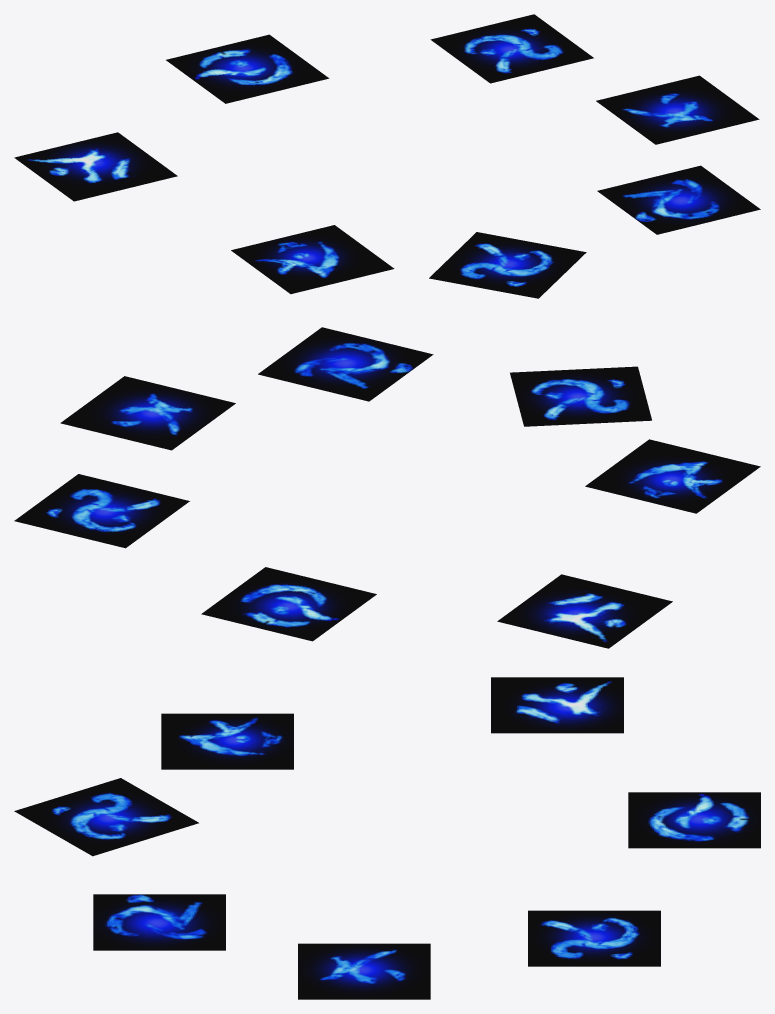
File: Particles.fbx
3 renders of one model, top to bottom at view 1: azimuth 30°, elevation 25°; view 2: azimuth 150°, elevation 25°; view 3: azimuth 270°, elevation 25°, orthographic. The views are drawn at different scales.
Visible parts, largest first — view 1: Rune_02, Rune_04, Rune_05, Rune_03, Rune_01, Rune_01_1, Rune_06; view 2: Rune_01_1, Rune_01, Rune_04, Rune_03, Rune_02, Rune_05, Rune_06; view 3: Rune_01, Rune_02, Rune_03, Rune_04, Rune_05, Rune_06, Rune_01_1.
Boxes of the visible parts, x1,y1,x2,y2 form: Rune_02: (596,75,759,144); Rune_04: (166,34,329,103); Rune_05: (14,132,177,201); Rune_03: (597,165,760,234); Rune_01: (430,14,593,83); Rune_01_1: (429,232,586,298); Rune_06: (231,225,394,293); Rune_01_1: (510,366,651,426); Rune_01: (14,474,189,548); Rune_04: (201,567,376,641); Rune_03: (258,327,433,401); Rune_02: (60,376,235,450); Rune_05: (497,574,672,648); Rune_06: (585,439,760,513); Rune_01: (528,910,660,966); Rune_02: (298,943,430,999); Rune_03: (93,894,225,950); Rune_04: (628,792,760,848); Rune_05: (491,677,623,733); Rune_06: (161,713,293,769); Rune_01_1: (14,778,198,856).
Size of the model in its own units: 499 by 0.1137 by 488.
1 material, 1 textured.
